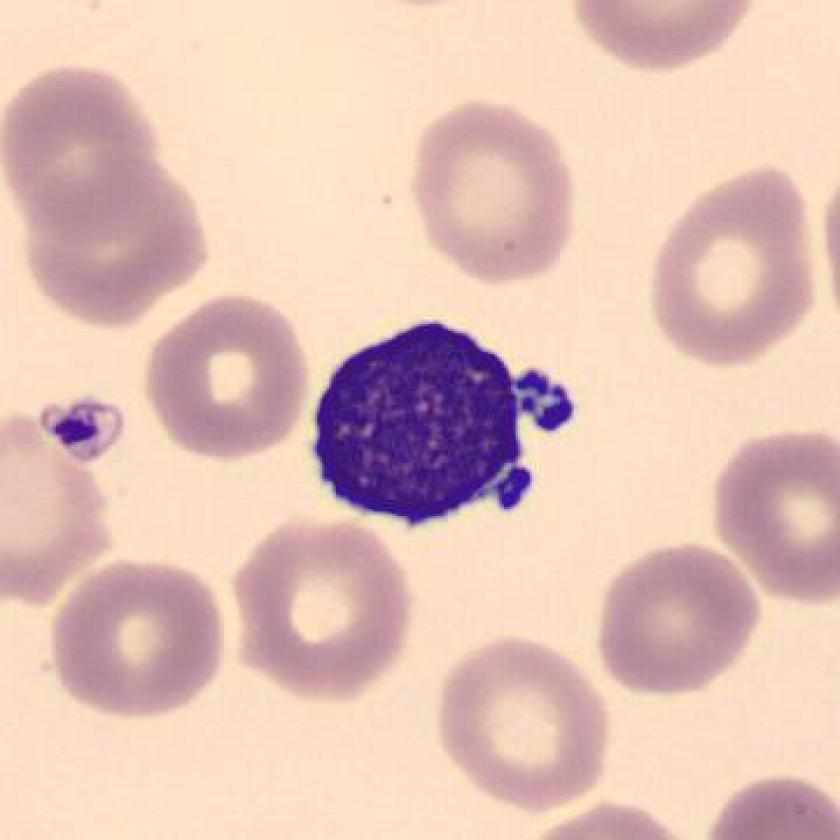lymphocyte: (288, 304, 584, 554)
platelets: (35, 393, 136, 471)
